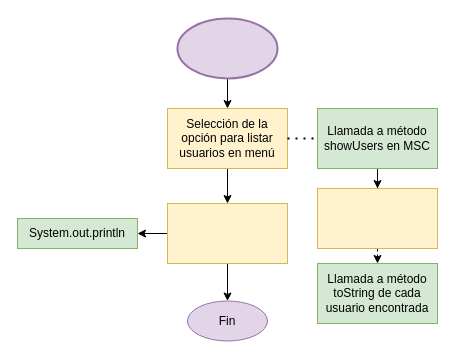
The diagram is 455 pixels wide and 358 high, and some of its shapes have lost their labels. Here are the shapes that lost their labels. From the top down, the centre of each, then its label:
(227,48): R2. Listar usuarios creados
(227,233): Imprimir en pantalla retorno del método
(377,218): Patrón de recorrido total del arreglo users
